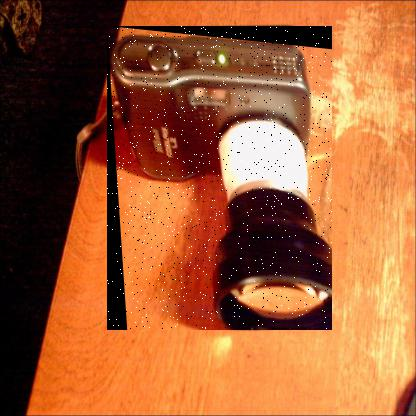Camera: (108, 27, 334, 332)
